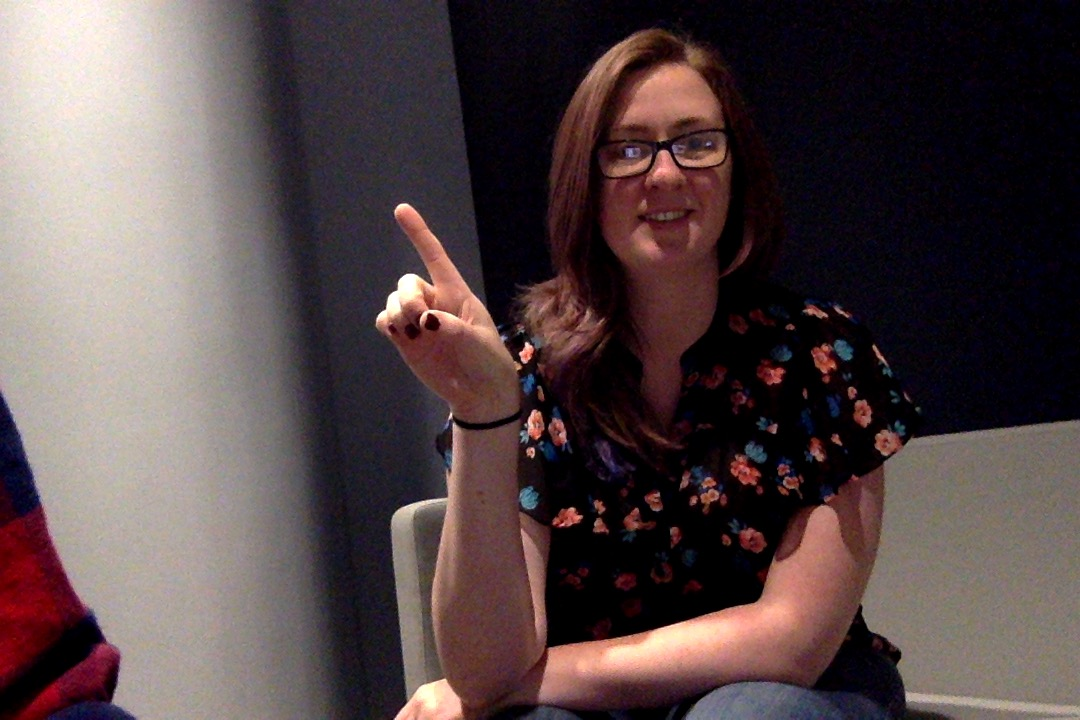d: (362, 181, 524, 442)
